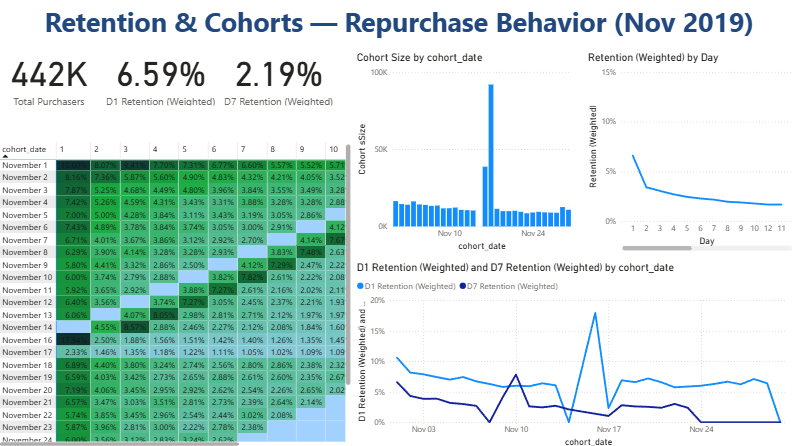

What the dashboard file says about the page in this screenshot:
{"tool":"powerbi","page":{"name":"Retention & Cohorts","canvas":[1280,720],"ordinal":1},"visuals":[{"type":"textbox","box":[10,0,1270,82.9],"z":0},{"type":"card","fields":{"Values":["cohort_retention_summary.Total Purchasers"]},"box":[0,71.4,170,101.4],"z":1000},{"type":"card","fields":{"Values":["cohort_retention_summary.D7 Retention (Weighted)"]},"box":[357.1,71.4,188.6,101.4],"z":2000},{"type":"card","fields":{"Values":["cohort_retention_summary.D1 Retention (Weighted)"]},"box":[170,71.4,187.1,101.4],"z":3000},{"type":"pivotTable","fields":{"Columns":["cohort_retention_curve.days_since"],"Values":["cohort_retention_curve.Retention Rate"],"Rows":["cohort_retention_curve.cohort_date"]},"box":[0,221.4,572.9,498.6],"z":4000},{"type":"lineChart","fields":{"Category":["Days.Value"],"Y":["cohort_retention_curve.Retention (Weighted)"]},"box":[942.9,82.9,337.1,324.3],"z":5000},{"type":"clusteredColumnChart","title":"Cohort Size by cohort_date","fields":{"Category":["cohort_retention_curve.cohort_date"],"Y":["cohort_retention_curve.Cohort sSize"]},"box":[572.9,82.9,370,324.3],"z":6000},{"type":"lineChart","fields":{"Y":["cohort_retention_summary.D1 Retention (Weighted)","cohort_retention_summary.D7 Retention (Weighted)"],"Category":["cohort_retention_summary.cohort_date"]},"box":[572.9,418.6,707.1,301.4],"z":7000}]}

Visuals, with their boxes in screenshot pixels (x1, y1, x2, y2), scaled from the page's 1280x720 canvas onto the 794x446 screenshot:
textbox: x1=6 y1=0 x2=793 y2=51
card - cohort_retention_summary.Total Purchasers: x1=0 y1=44 x2=105 y2=107
card - cohort_retention_summary.D7 Retention (Weighted): x1=222 y1=44 x2=339 y2=107
card - cohort_retention_summary.D1 Retention (Weighted): x1=105 y1=44 x2=222 y2=107
pivotTable - cohort_retention_curve.days_since x cohort_retention_curve.Retention Rate: x1=0 y1=137 x2=355 y2=445
lineChart - Days.Value x cohort_retention_curve.Retention (Weighted): x1=585 y1=51 x2=793 y2=252
"Cohort Size by cohort_date" clusteredColumnChart: x1=355 y1=51 x2=585 y2=252
lineChart - cohort_retention_summary.D1 Retention (Weighted) x cohort_retention_summary.D7 Retention (Weighted): x1=355 y1=259 x2=793 y2=445
